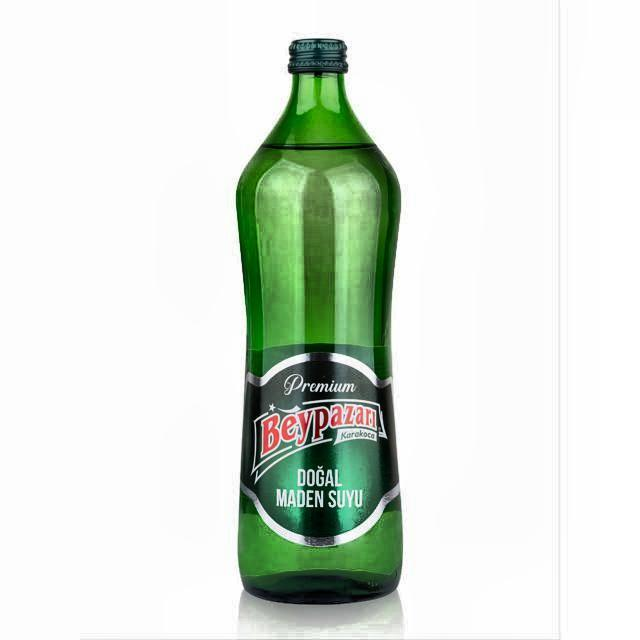glass: (234, 37, 404, 608)
